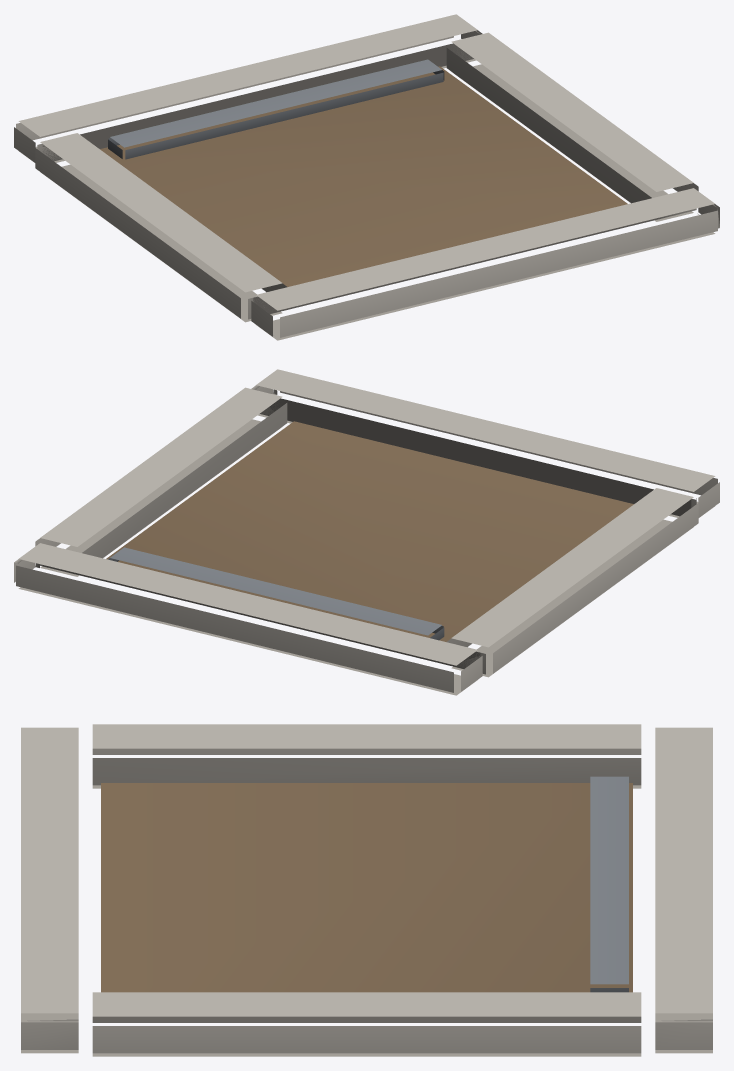
Rendered from hidden_proctor_trapdoor_lod2.glb.
3 views of the same model, one above another, from view 1: azimuth 30°, elevation 25°; view 2: azimuth 150°, elevation 25°; view 3: azimuth 270°, elevation 25° (orthographic). The views are drawn at different scales.
Visible parts, largest first — view 1: hidden_proctor_trapdoor.001; view 2: hidden_proctor_trapdoor.001; view 3: hidden_proctor_trapdoor.001.
Boxes of the visible parts, box(x1,y1,x2,y2) form: hidden_proctor_trapdoor.001: box(14, 14, 719, 340); hidden_proctor_trapdoor.001: box(14, 369, 719, 695); hidden_proctor_trapdoor.001: box(21, 724, 712, 1056).
Bounding box in the file's own units: 2.56 × 0.16 × 2.56.
